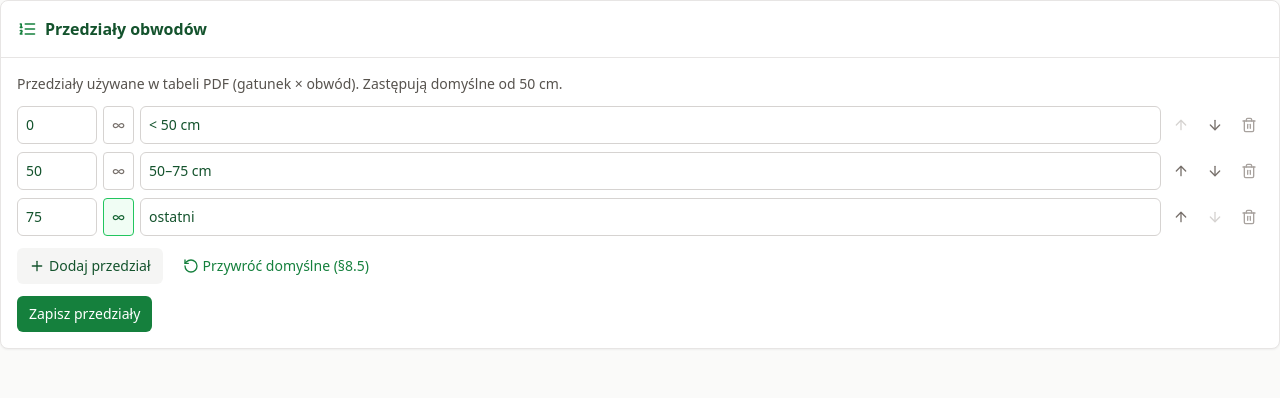
Test: RangesEditor › should save valid ranges replacing defaults
Replace the text in the field named "Etykieta przedziału 1" with "małe pnie": (651,125) [140,106,1161,144]
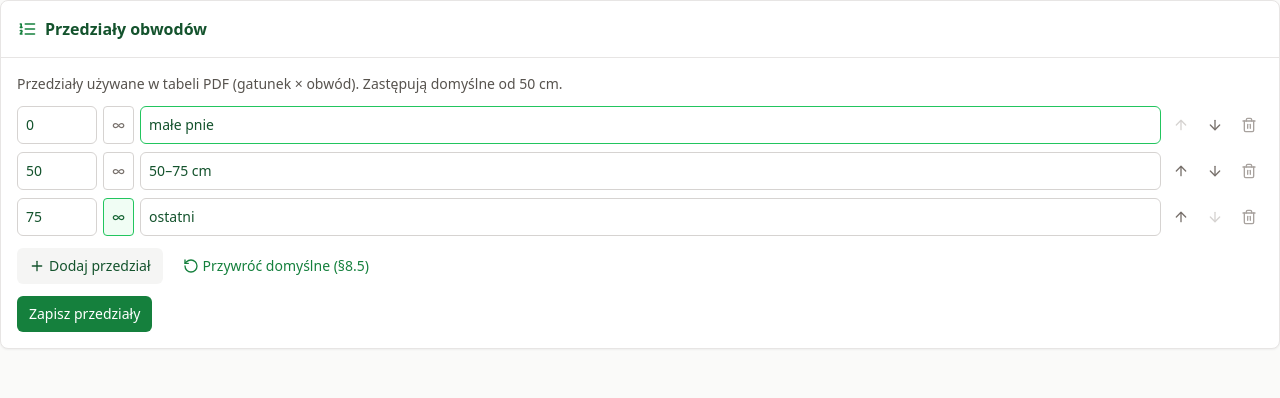
Click the button with test id "ranges-save": (85,314) [17,296,152,332]
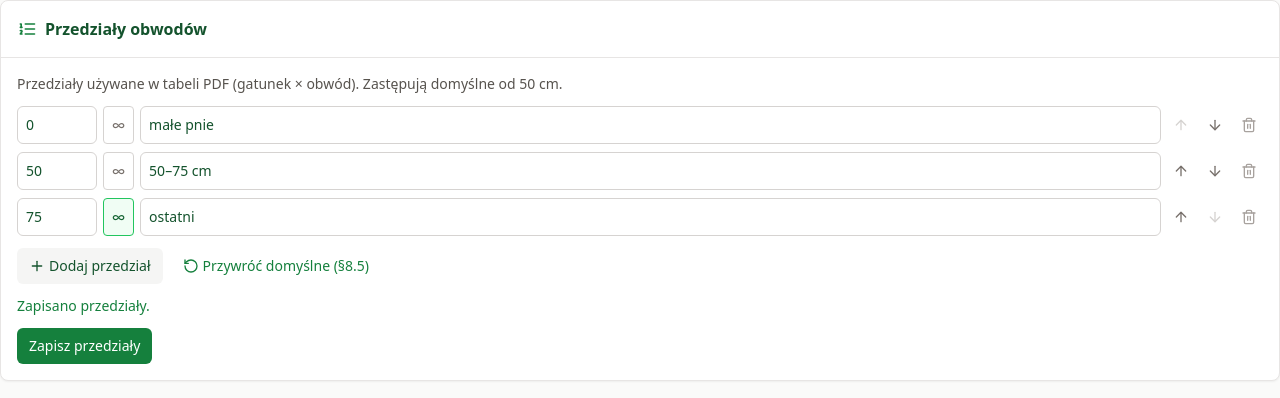
Expected: the message "Zapisano przedziały." is shown, [17,296,150,315]
